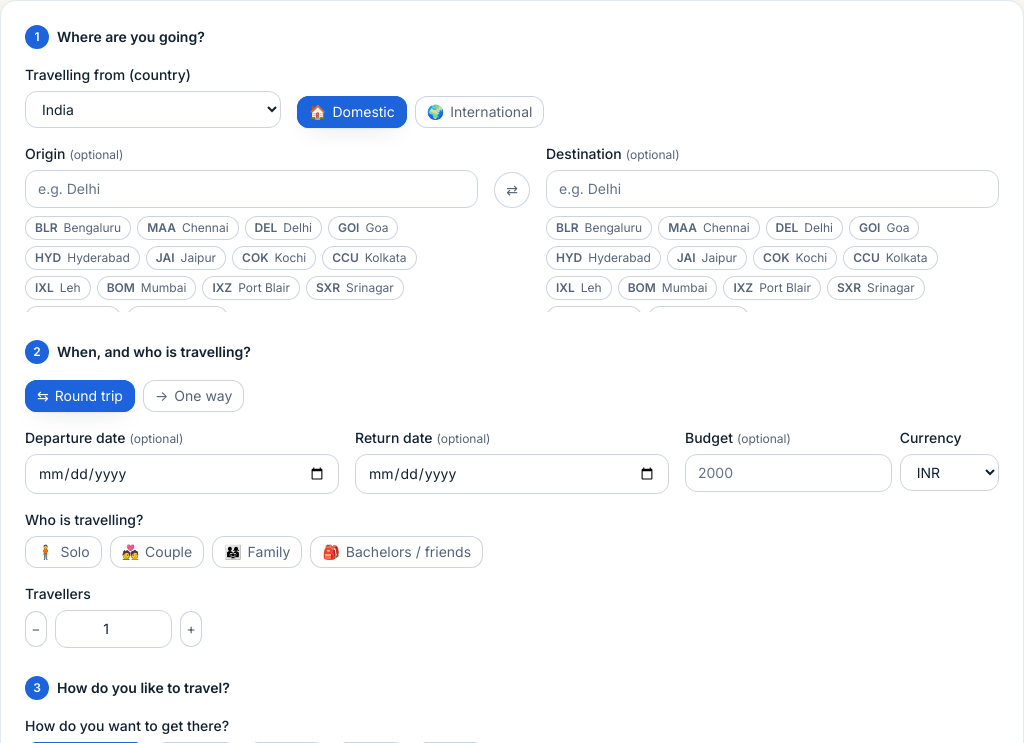
Test: PlannerForm › hides the return date for a one-way flight
Expected: the date field labelled "Return date(optional)" is shown, [355, 454, 669, 494]
Click the button "→ One way" at (194, 396), box [143, 380, 244, 412]
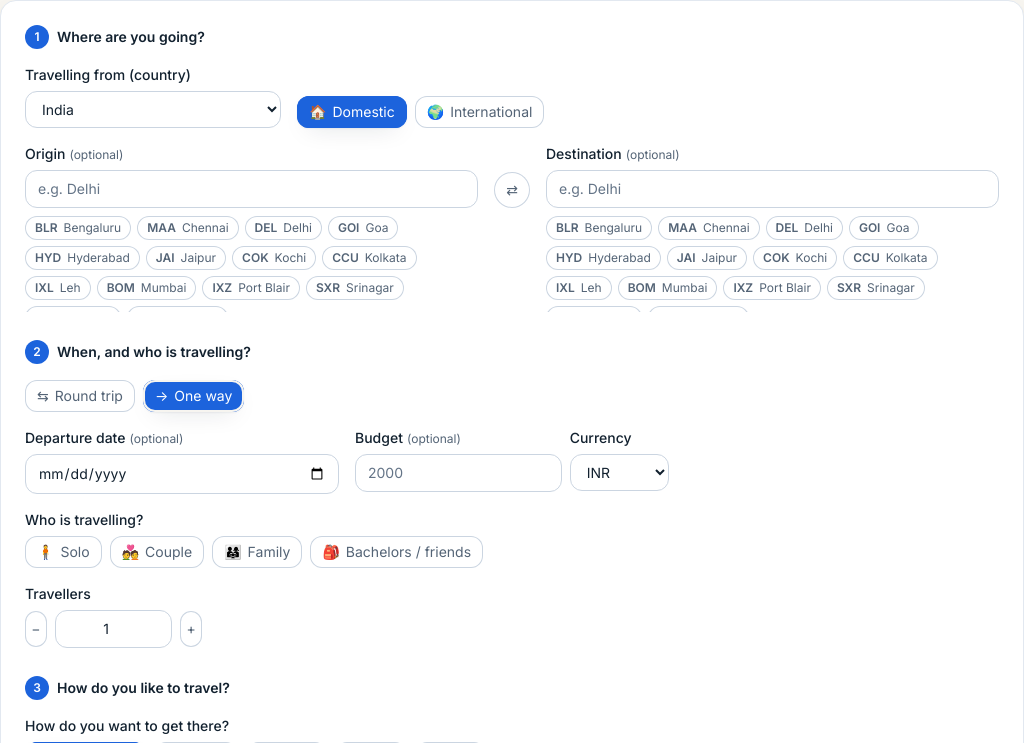
Expected: the label labelled "Return date" is gone
